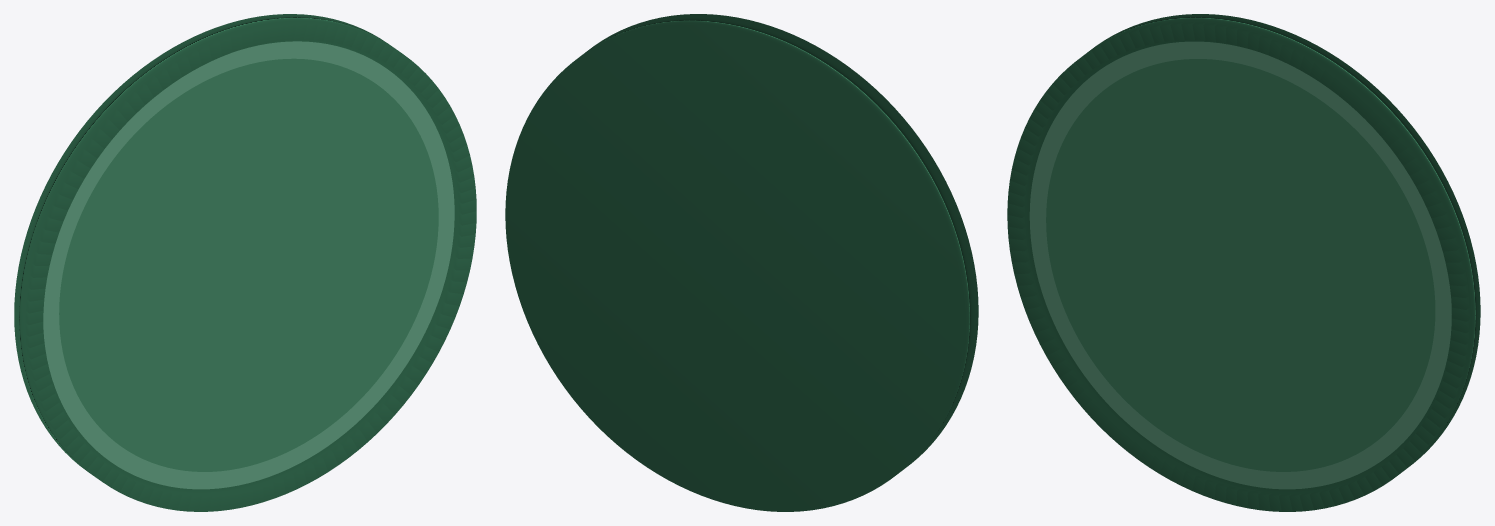
Rendered from pintosimple.glb.
The picture shows the model from 3 angles, left to right: view 1: azimuth 30°, elevation 25°; view 2: azimuth 150°, elevation 25°; view 3: azimuth 330°, elevation 25°; orthographic projection.
Visible parts, largest first — view 1: Cylinder; view 2: Cylinder; view 3: Cylinder.
Part boxes in pixels (bbox=[...]): Cylinder: bbox=[14, 14, 476, 511]; Cylinder: bbox=[505, 14, 978, 511]; Cylinder: bbox=[1007, 14, 1480, 511].
Bounding box in the file's own units: 2 × 2 × 0.1478.
